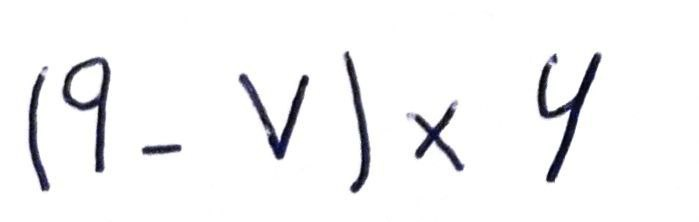character: (538, 51, 602, 184), (236, 72, 308, 161), (61, 57, 111, 172), (340, 50, 372, 194), (407, 100, 464, 172), (26, 65, 50, 192), (141, 143, 182, 157)
